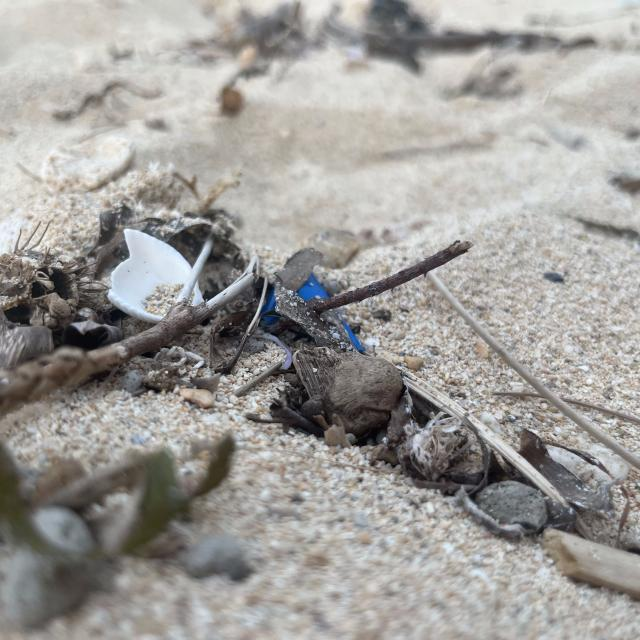shell: (96, 217, 208, 340)
trash: (259, 253, 361, 337)
